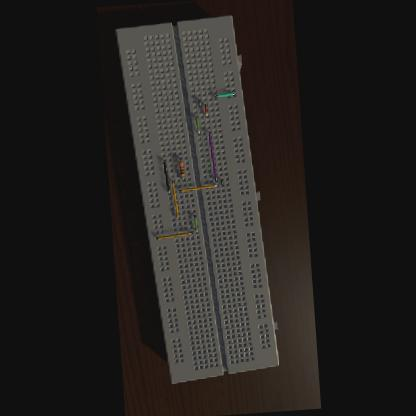breadboard: (114, 13, 280, 386)
resistor: (177, 162, 183, 176)
wire: (208, 132, 216, 182), (170, 182, 178, 219), (178, 185, 216, 192), (155, 232, 191, 239), (162, 160, 169, 194), (213, 92, 233, 98), (194, 116, 198, 134), (193, 216, 197, 232), (204, 104, 206, 118), (198, 99, 200, 107), (220, 180, 221, 186), (179, 158, 180, 162), (182, 176, 182, 180)
